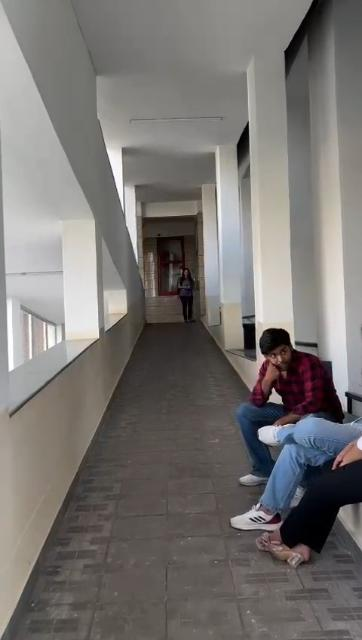floor: (9, 315, 362, 640)
moving-obj: (248, 304, 362, 570)
wall: (310, 16, 360, 314), (246, 54, 290, 306), (62, 30, 98, 334), (209, 124, 241, 336), (110, 154, 136, 314)
